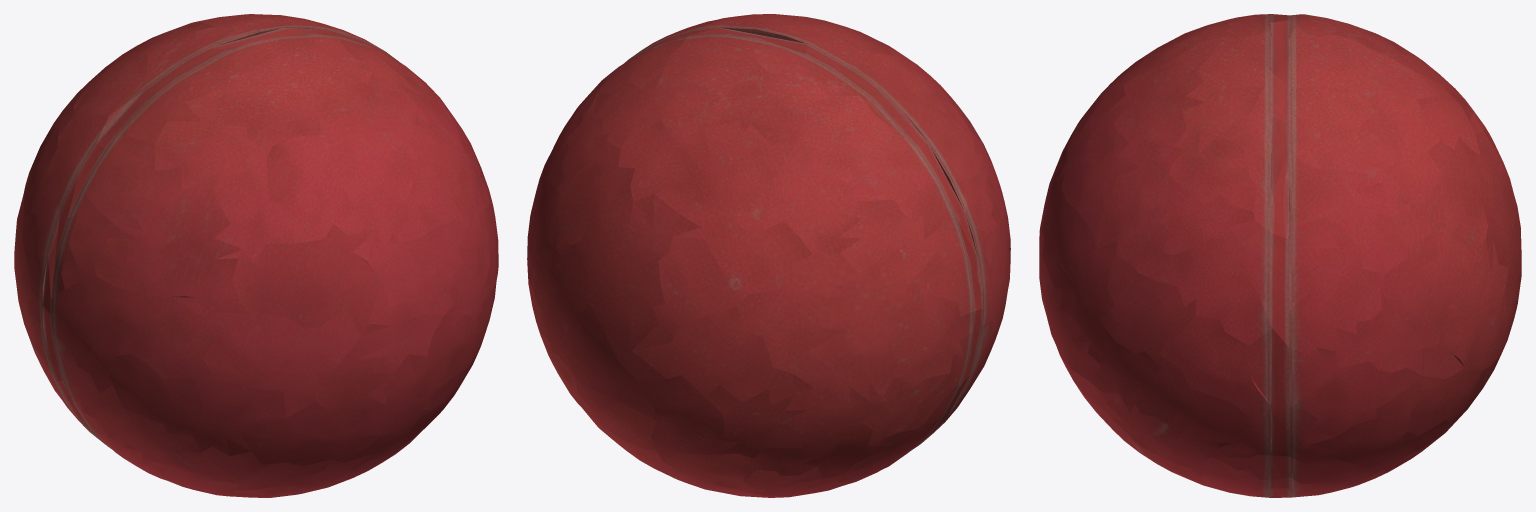
The model's file is pallone.glb.
3 renders of one model, left to right at view 1: azimuth 30°, elevation 25°; view 2: azimuth 150°, elevation 25°; view 3: azimuth 270°, elevation 25°, orthographic.
Visible parts, largest first — view 1: pallone; view 2: pallone; view 3: pallone.
Boxes of the visible parts, bbox=[...] form: pallone: bbox=[14, 14, 498, 497]; pallone: bbox=[527, 14, 1010, 497]; pallone: bbox=[1039, 14, 1521, 497].
Bounding box in the file's own units: 0.5 × 0.4997 × 0.4979.
Materials: 1 (1 with a texture image).
